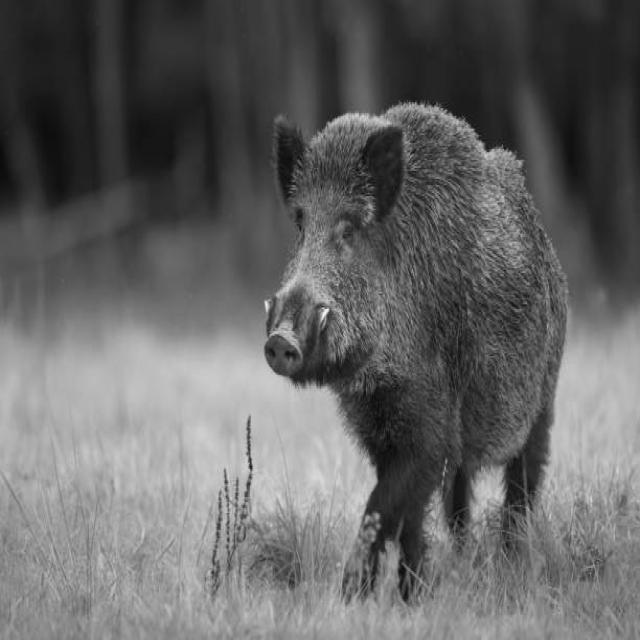boar: (264, 102, 565, 596)
